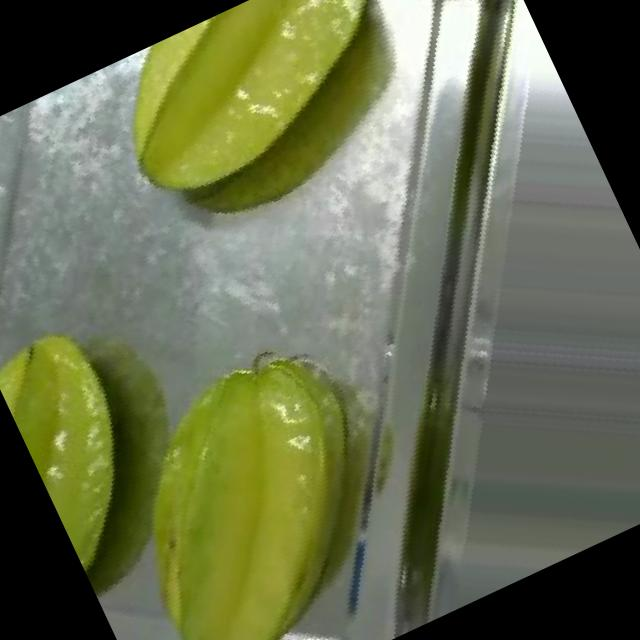fruit: (5, 247, 497, 640), (58, 0, 480, 293), (0, 271, 228, 611)
